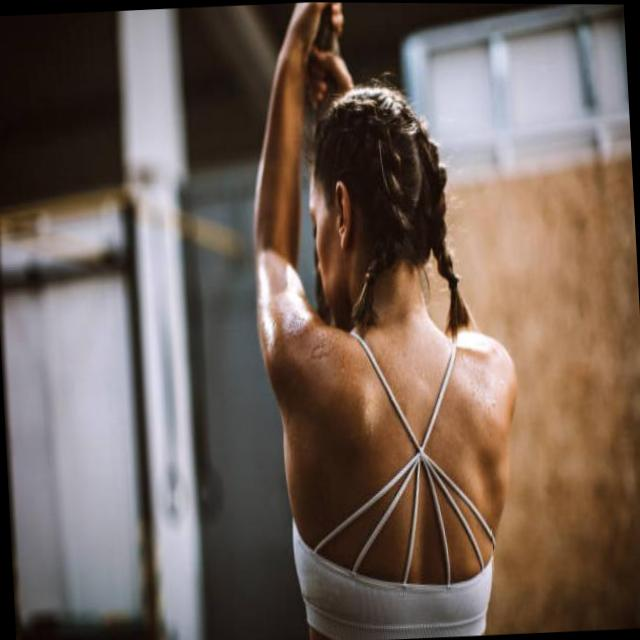no helmet: (294, 70, 476, 377)
